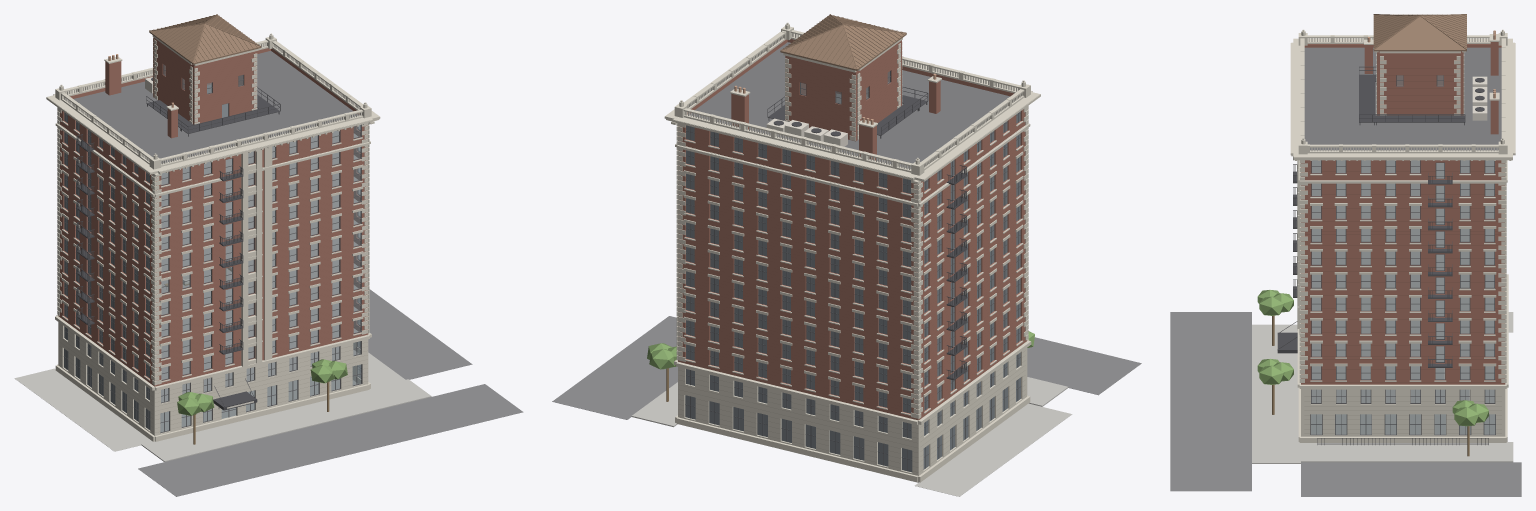
File: clay-prewar-apartment-tower-clay-v002.glb
3 renders of one model, left to right at view 1: azimuth 30°, elevation 25°; view 2: azimuth 150°, elevation 25°; view 3: azimuth 270°, elevation 25°, orthographic. The views are drawn at different scales.
Visible parts, largest first — view 1: CLAY_WALL, CLAY_STONE, CLAY_ASPHALT, CLAY_GLASS, CLAY_TRIM, CLAY_CONCRETE, CLAY_MEMBRANE, CLAY_FLOOR, CLAY_HARDWARE, CLAY_COPPER, CLAY_STONEJOINT, CLAY_PALE (+2 smaller); view 2: CLAY_WALL, CLAY_STONE, CLAY_TRIM, CLAY_GLASS, CLAY_ASPHALT, CLAY_MEMBRANE, CLAY_CONCRETE, CLAY_COPPER, CLAY_HARDWARE, CLAY_PALE, CLAY_STONEJOINT, CLAY_PLANTING; view 3: CLAY_WALL, CLAY_STONE, CLAY_ASPHALT, CLAY_GLASS, CLAY_FLOOR, CLAY_MEMBRANE, CLAY_CONCRETE, CLAY_TRIM, CLAY_HARDWARE, CLAY_COPPER, CLAY_JOINT, CLAY_PLANTING (+3 smaller).
Part boxes in pixels (bbox=[...]): CLAY_WALL: bbox=[58, 37, 368, 386]; CLAY_STONE: bbox=[46, 33, 380, 441]; CLAY_ASPHALT: bbox=[138, 289, 523, 496]; CLAY_GLASS: bbox=[64, 65, 361, 431]; CLAY_TRIM: bbox=[63, 64, 362, 433]; CLAY_CONCRETE: bbox=[14, 352, 431, 461]; CLAY_MEMBRANE: bbox=[73, 51, 358, 163]; CLAY_FLOOR: bbox=[161, 131, 358, 402]; CLAY_HARDWARE: bbox=[76, 77, 280, 410]; CLAY_COPPER: bbox=[149, 14, 261, 64]; CLAY_STONEJOINT: bbox=[60, 325, 367, 432]; CLAY_PALE: bbox=[64, 43, 361, 409]; CLAY_WALL: bbox=[678, 39, 1027, 420]; CLAY_STONE: bbox=[664, 22, 1040, 482]; CLAY_TRIM: bbox=[685, 70, 1021, 472]; CLAY_GLASS: bbox=[685, 71, 1020, 472]; CLAY_ASPHALT: bbox=[552, 316, 1141, 419]; CLAY_MEMBRANE: bbox=[689, 42, 1009, 168]; CLAY_CONCRETE: bbox=[631, 377, 1072, 496]; CLAY_COPPER: bbox=[780, 14, 906, 70]; CLAY_HARDWARE: bbox=[767, 86, 967, 380]; CLAY_PALE: bbox=[685, 33, 1022, 169]; CLAY_STONEJOINT: bbox=[678, 350, 1025, 472]; CLAY_PLANTING: bbox=[647, 331, 1034, 369]; CLAY_WALL: bbox=[1301, 42, 1505, 384]; CLAY_STONE: bbox=[1290, 29, 1515, 442]; CLAY_ASPHALT: bbox=[1170, 312, 1521, 496]; CLAY_GLASS: bbox=[1311, 75, 1495, 434]; CLAY_FLOOR: bbox=[1311, 160, 1494, 402]; CLAY_MEMBRANE: bbox=[1304, 47, 1501, 150]; CLAY_CONCRETE: bbox=[1252, 312, 1513, 463]; CLAY_TRIM: bbox=[1310, 75, 1495, 435]; CLAY_HARDWARE: bbox=[1277, 66, 1488, 444]; CLAY_COPPER: bbox=[1373, 14, 1466, 51]; CLAY_JOINT: bbox=[1304, 68, 1501, 382]; CLAY_PLANTING: bbox=[1257, 290, 1488, 426].
Bounding box in the file's own units: 53.6 × 50.31 × 43.
